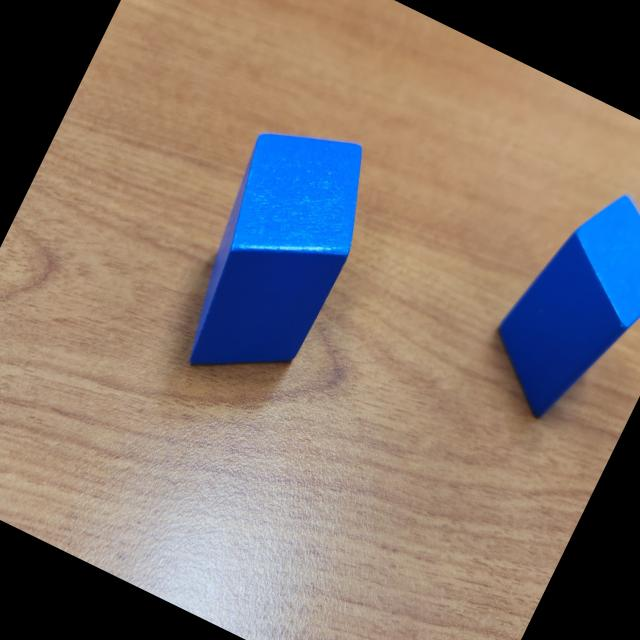blue: (154, 102, 395, 406), (467, 167, 640, 447)
